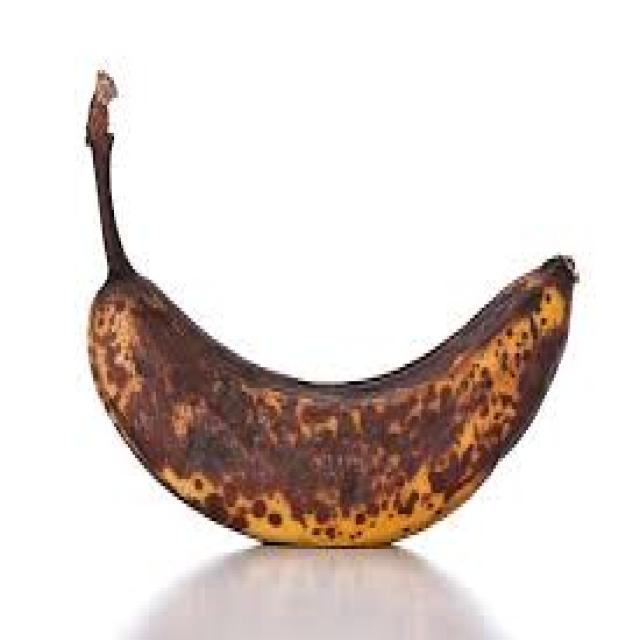Banana: (100, 296, 520, 511)
